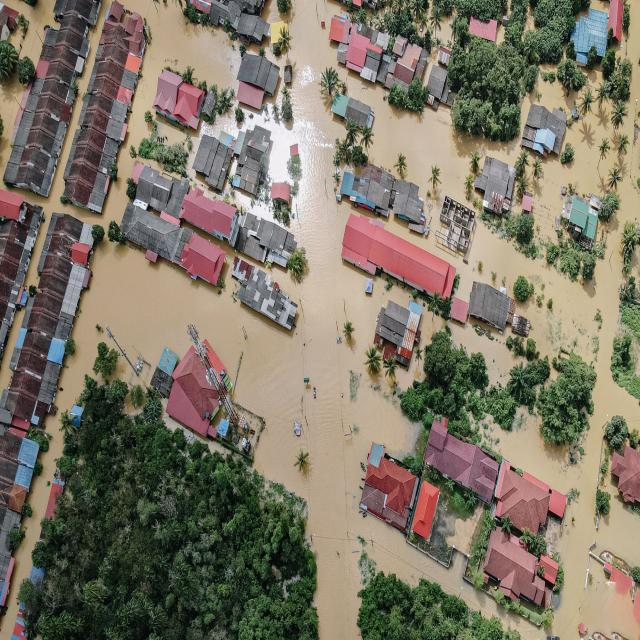damage: (0, 111, 309, 516), (320, 68, 530, 383), (360, 380, 562, 606), (465, 90, 594, 249), (0, 0, 100, 196), (60, 0, 141, 213), (329, 0, 454, 114), (151, 326, 250, 453), (184, 0, 290, 58), (563, 0, 629, 93), (153, 66, 230, 131), (230, 259, 299, 330), (556, 185, 619, 258), (232, 50, 293, 124), (603, 420, 640, 505), (591, 550, 640, 585)
